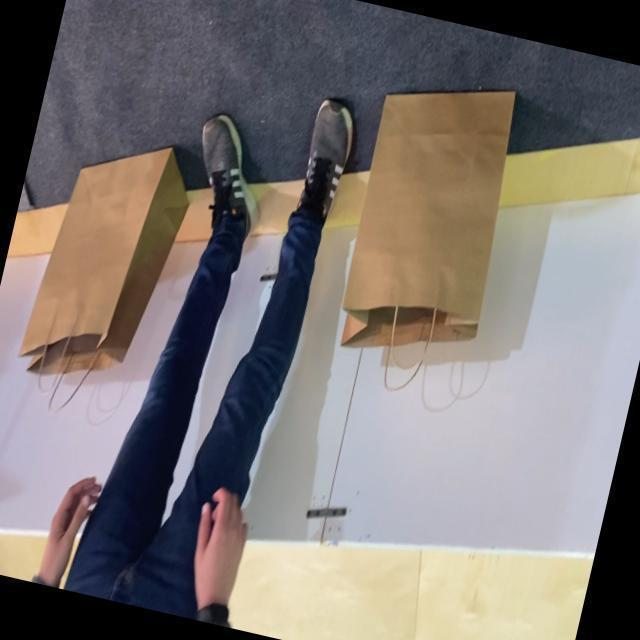Paper_Bag: (320, 62, 532, 408), (6, 124, 200, 433)
